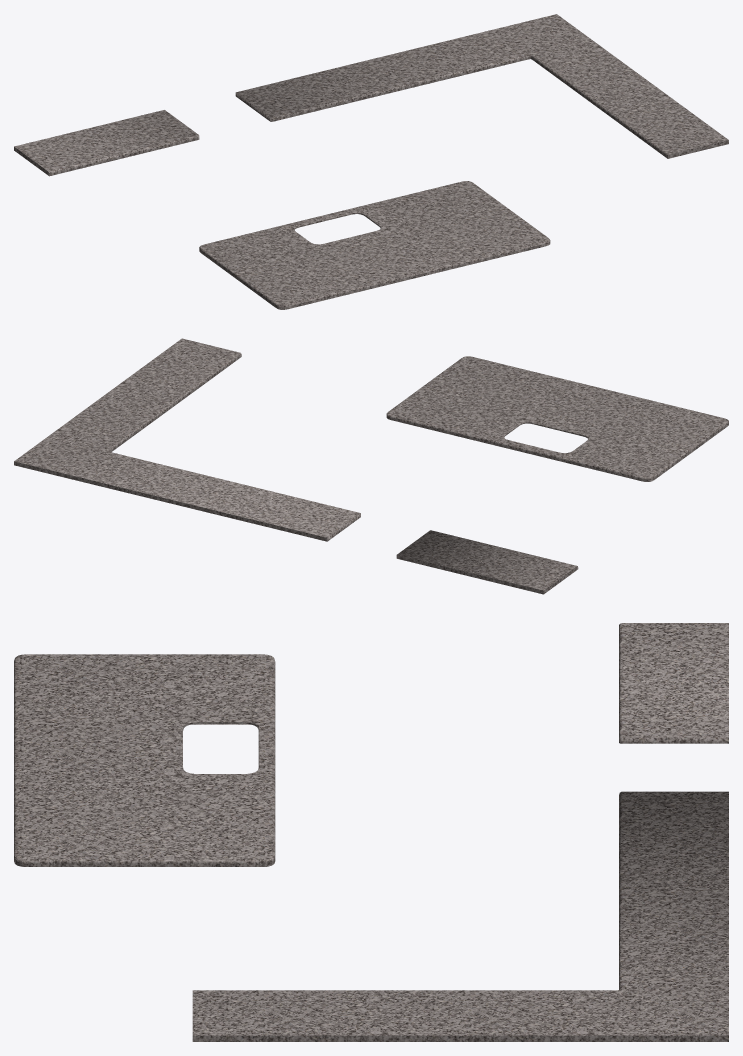
Rendered from 1989_kitchen_Countertops_GraniteCaledonia.gltf.
The picture shows the model from 3 angles, top to bottom: view 1: azimuth 30°, elevation 25°; view 2: azimuth 150°, elevation 25°; view 3: azimuth 270°, elevation 25°; orthographic projection. The views are drawn at different scales.
Parts seen in each view (by area): view 1: Line22374, Line23355, Line23421, Line22377; view 2: Line22374, Line23355, Line23421, Line22377; view 3: Line22374, Line23355, Line23421, Line22377.
Boxes of the visible parts, <box> form: Line22374: <box>199,181,550,309</box>; Line23355: <box>235,14,728,158</box>; Line23421: <box>14,110,199,176</box>; Line22377: <box>286,209,389,247</box>; Line22374: <box>386,356,728,481</box>; Line23355: <box>14,338,360,541</box>; Line23421: <box>396,530,578,594</box>; Line22377: <box>496,418,596,455</box>; Line22374: <box>14,654,275,866</box>; Line23355: <box>192,791,728,1041</box>; Line23421: <box>619,623,728,743</box>; Line22377: <box>176,718,261,776</box>.
Size of the model in its own units: 7.1 by 0.07 by 5.2.
Materials: 1 (1 with a texture image).
